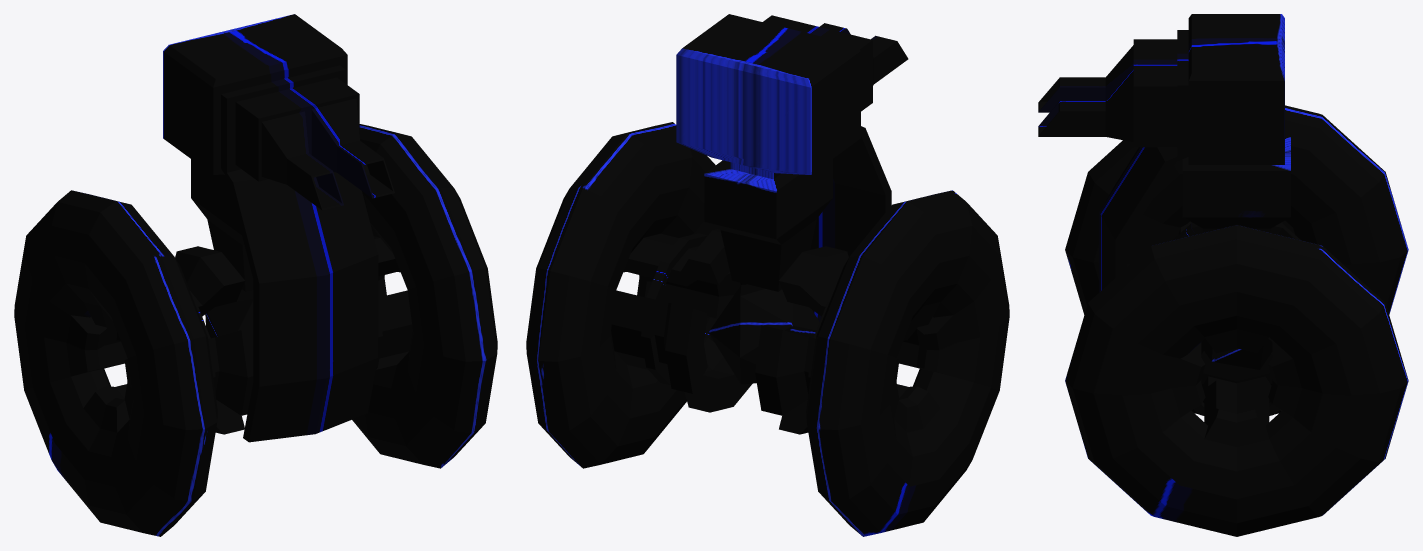
File: enemey1.fbx
The picture shows the model from 3 angles, left to right: view 1: azimuth 30°, elevation 25°; view 2: azimuth 150°, elevation 25°; view 3: azimuth 270°, elevation 25°; orthographic projection. The views are drawn at different scales.
Visible parts, largest first — view 1: pCube3, pTorus2, pTorus1, pPlatonic3; view 2: pTorus2, pTorus1, pCube3, pPlatonic3; view 3: pTorus1, pCube3, pTorus2, pPlatonic3.
Boxes of the visible parts, x1=… form: pCube3: x1=163, y1=14, x2=394, y2=442; pTorus2: x1=14, y1=190, x2=253, y2=536; pTorus1: x1=352, y1=124, x2=497, y2=468; pPlatonic3: x1=205, y1=289, x2=253, y2=338; pTorus2: x1=755, y1=190, x2=1009, y2=536; pTorus1: x1=526, y1=122, x2=752, y2=468; pCube3: x1=676, y1=14, x2=908, y2=321; pPlatonic3: x1=708, y1=284, x2=819, y2=384; pTorus1: x1=1065, y1=224, x2=1408, y2=536; pCube3: x1=1038, y1=14, x2=1290, y2=292; pTorus2: x1=1065, y1=105, x2=1408, y2=385; pPlatonic3: x1=1201, y1=338, x2=1272, y2=369.
Bounding box in the file's own units: 3.51 × 4.36 × 3.42.
